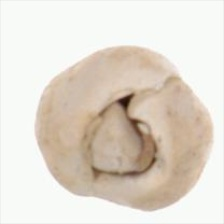L3: (83, 87, 169, 183)
L4: (33, 47, 213, 212)
